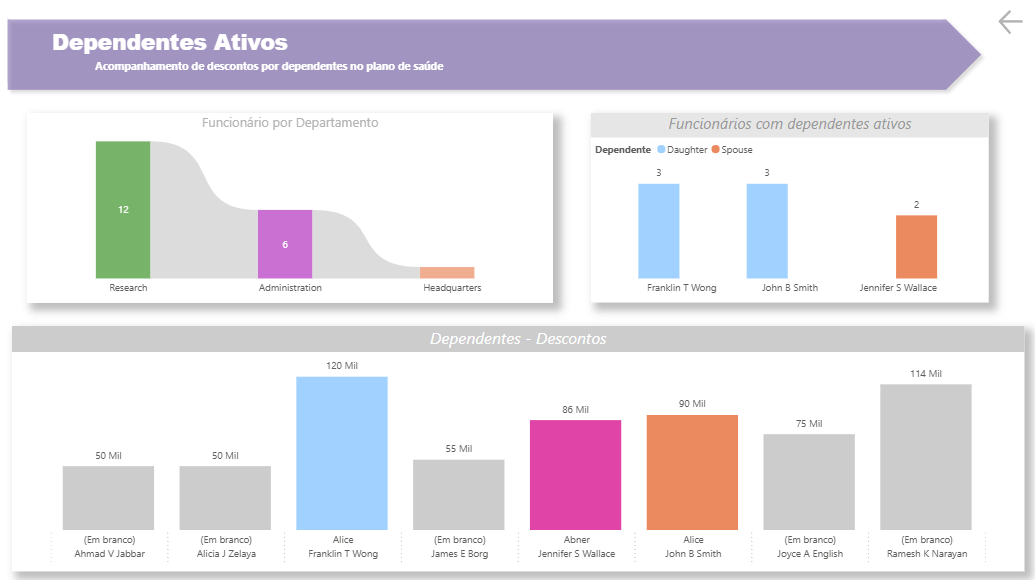

The dashboard page shown, as its layout file describes it:
{"tool":"powerbi","page":{"name":"Dependentes","canvas":[1280,720],"ordinal":1},"visuals":[{"type":"clusteredColumnChart","title":"Funcionários com dependentes ativos","fields":{"Category":["Agrupamento RH.Funcionário "],"Y":["CountNonNull(Agrupamento RH.Dependent_name)"],"Series":["Agrupamento RH.tipo dependent"]},"box":[730,142.9,491.4,234.3],"z":0},{"type":"shape","box":[0,18.2,1220.8,105.2],"z":1000},{"type":"textbox","box":[32.9,31.4,352.9,48.6],"z":2000},{"type":"textbox","box":[112.9,71.4,448.6,31.4],"z":3000},{"type":"clusteredColumnChart","title":"Dependentes - Descontos","fields":{"Category":["Agrupamento RH.Funcionário ","Agrupamento RH.Dependent_name"],"Y":["Sum(Agrupamento RH.Salario)"]},"box":[14.3,405.7,1250,302.9],"z":4000},{"type":"ribbonChart","title":"Funcionário por Departamento","fields":{"Category":["Agrupamento RH.Dname"],"Y":["CountNonNull(Agrupamento RH.Funcionário )"]},"box":[32.9,142.9,650,234.3],"z":4001},{"type":"actionButton","box":[1228.6,11.4,51.4,40],"z":4002}]}

Visuals, with their boxes in screenshot pixels (x1, y1, x2, y2), scaled from the page's 1280x720 canvas onto the 1035x580 screenshot:
"Funcionários com dependentes ativos" clusteredColumnChart: select_region(590, 115, 988, 304)
shape: select_region(0, 15, 987, 99)
textbox: select_region(27, 25, 312, 64)
textbox: select_region(91, 58, 454, 83)
"Dependentes - Descontos" clusteredColumnChart: select_region(12, 327, 1022, 571)
"Funcionário por Departamento" ribbonChart: select_region(27, 115, 552, 304)
actionButton: select_region(993, 9, 1034, 41)
